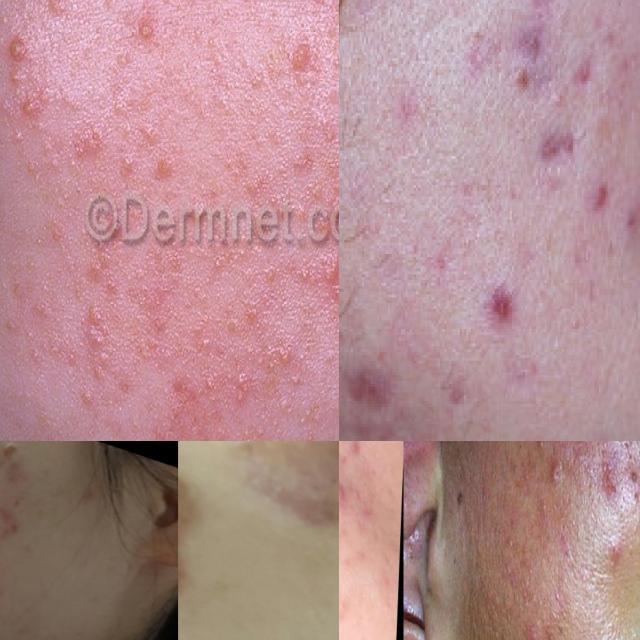acne_scars: (0, 505, 33, 544), (339, 441, 379, 468), (339, 571, 355, 616)
cystic: (339, 462, 355, 510)
keloid: (205, 441, 339, 551), (178, 441, 237, 640)
papule: (548, 449, 568, 493)
sebo-crystan-conglo: (599, 447, 615, 504)
